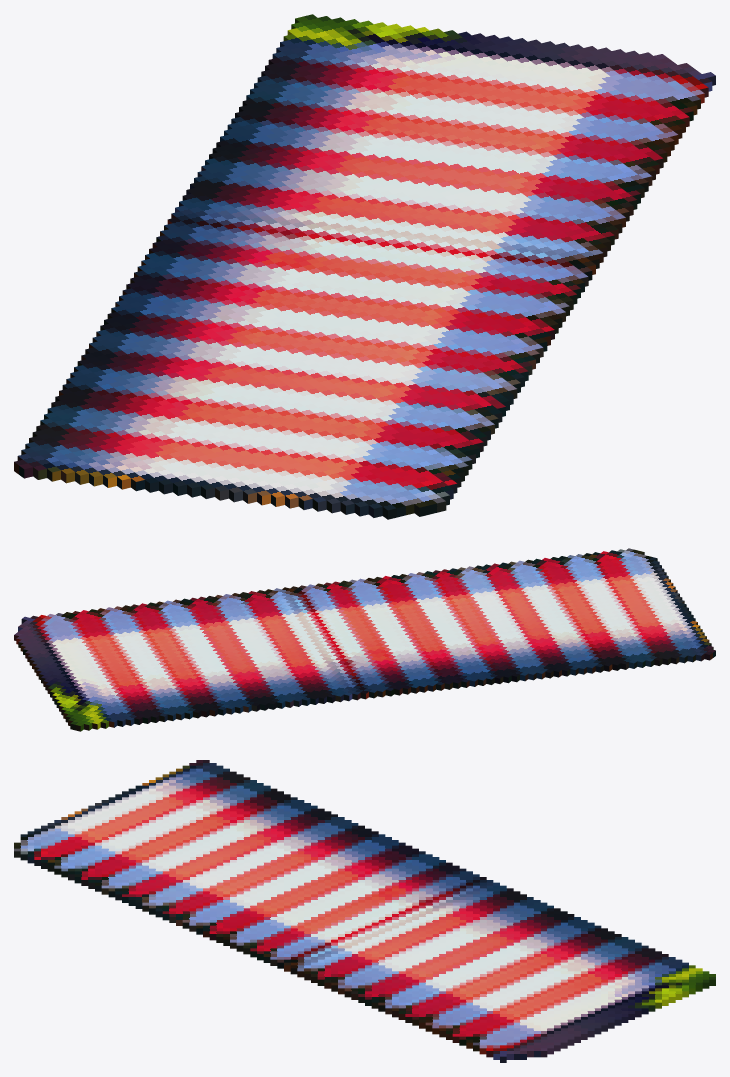
File: seafood-awning.glb
The picture shows the model from 3 angles, top to bottom: view 1: azimuth 30°, elevation 25°; view 2: azimuth 150°, elevation 25°; view 3: azimuth 270°, elevation 25°; orthographic projection. The views are drawn at different scales.
Visible parts, largest first — view 1: seafood-awning; view 2: seafood-awning; view 3: seafood-awning.
Part boxes in pixels (x1,y1,x2,y2): seafood-awning: [14, 14, 715, 519]; seafood-awning: [14, 548, 715, 731]; seafood-awning: [14, 760, 715, 1062].
Size of the model in its own units: 1.3 by 0.0125 by 1.3.
1 material, 1 textured.
